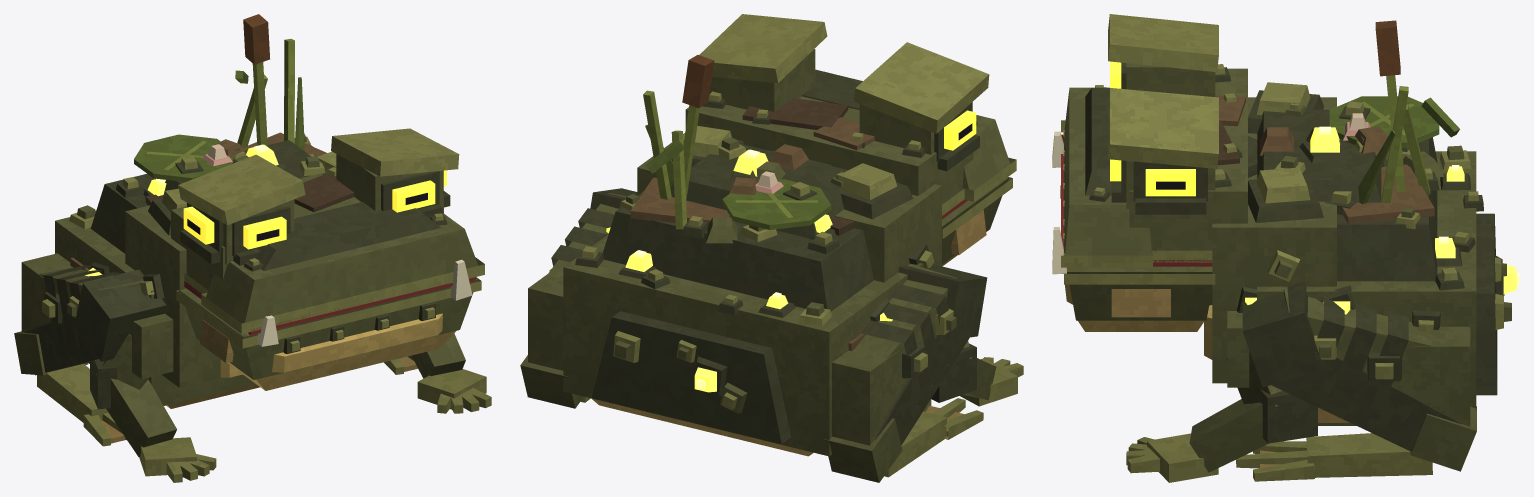
The model's file is fmob_toad.glb.
The picture shows the model from 3 angles, left to right: view 1: azimuth 30°, elevation 25°; view 2: azimuth 150°, elevation 25°; view 3: azimuth 270°, elevation 25°; orthographic projection. The views are drawn at different scales.
Parts seen in each view (by area): view 1: head, fmob_toad, jaw, leg_br, leg_fr, leg_fl, glow_eyes, glow_warts; view 2: fmob_toad, head, leg_br, leg_bl, leg_fr, jaw, glow_warts, glow_eyes; view 3: fmob_toad, head, leg_bl, leg_fl, jaw, glow_warts, glow_eyes.
Part boxes in pixels (x1=…): head: x1=171, y1=128, x2=484, y2=335; fmob_toad: x1=55, y1=14, x2=336, y2=408; jaw: x1=176, y1=259, x2=481, y2=390; leg_br: x1=14, y1=253, x2=166, y2=446; leg_fr: x1=90, y1=313, x2=216, y2=482; leg_fl: x1=411, y1=333, x2=491, y2=413; glow_eyes: x1=183, y1=170, x2=446, y2=249; glow_warts: x1=85, y1=144, x2=278, y2=276; fmob_toad: x1=563, y1=55, x2=941, y2=456; head: x1=685, y1=14, x2=1016, y2=219; leg_br: x1=824, y1=264, x2=987, y2=482; leg_bl: x1=520, y1=188, x2=637, y2=408; leg_fr: x1=931, y1=340, x2=1023, y2=406; jaw: x1=940, y1=177, x2=1012, y2=266; glow_warts: x1=606, y1=149, x2=892, y2=392; glow_eyes: x1=944, y1=110, x2=976, y2=150; fmob_toad: x1=1204, y1=20, x2=1511, y2=425; head: x1=1061, y1=14, x2=1247, y2=269; leg_bl: x1=1236, y1=281, x2=1476, y2=481; leg_fl: x1=1126, y1=311, x2=1317, y2=482; jaw: x1=1052, y1=131, x2=1215, y2=331; glow_warts: x1=1245, y1=126, x2=1519, y2=314; glow_eyes: x1=1110, y1=61, x2=1195, y2=196.
Size of the model in its own units: 1.58 by 1.43 by 1.58.
Materials: 19 (11 with a texture image).
